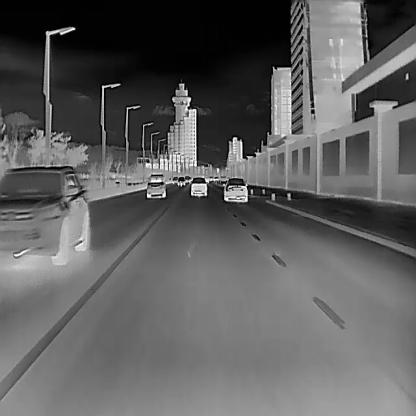car: (0, 165, 90, 266), (222, 176, 246, 200), (146, 173, 165, 197), (190, 175, 206, 196), (177, 176, 184, 186)
